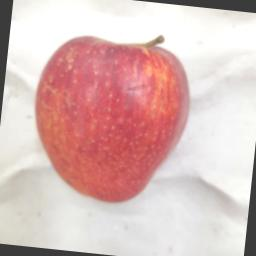Apple Ripe: (23, 16, 207, 213)
